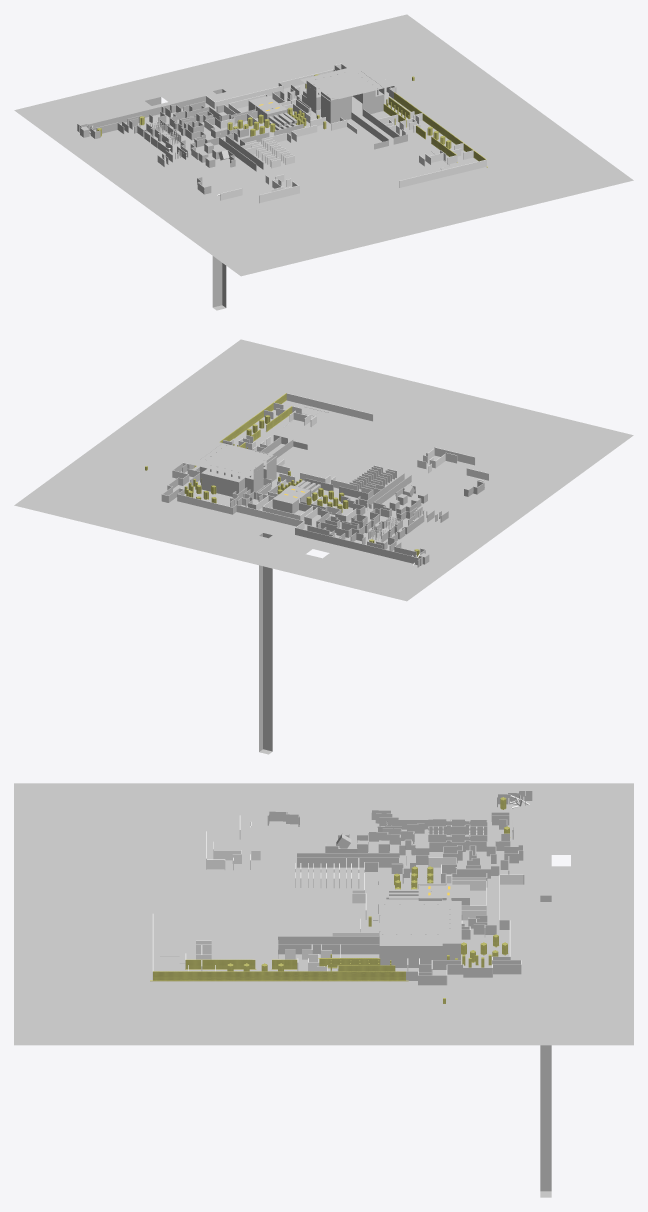
File: poc2.glb
3 views of the same model, one above another, from view 1: azimuth 30°, elevation 25°; view 2: azimuth 150°, elevation 25°; view 3: azimuth 270°, elevation 25° (orthographic). The views are drawn at different scales.
Parts seen in each view (by area): view 1: Plane, Plane.002, Cube.184, wall 3_Material.001_0.001, Cube.242, Cube.089, Cube.078; view 2: Plane, Plane.002, Cube.242, Cube.092, Cube.184; view 3: Plane, Plane.002, wall 3_Material.001_0.001, Cube.091, Cube.186, Cube.110, Cube.111, wall 3_Material.001_0.004, Plane.001.
Boxes of the visible parts, left/top/right/bottom form: Plane: left=14, top=14, right=633, bottom=310; Plane.002: left=300, top=64, right=393, bottom=101; Cube.184: left=399, top=159, right=486, bottom=187; wall 3_Material.001_0.001: left=393, top=92, right=487, bottom=167; Cube.242: left=88, top=97, right=201, bottom=129; Cube.089: left=321, top=92, right=338, bottom=123; Cube.078: left=267, top=109, right=297, bottom=130; Plane: left=14, top=339, right=633, bottom=754; Plane.002: left=184, top=440, right=276, bottom=477; Cube.242: left=299, top=529, right=412, bottom=563; Cube.092: left=201, top=468, right=244, bottom=496; Cube.184: left=286, top=393, right=373, bottom=421; Plane: left=14, top=783, right=633, bottom=1197; Plane.002: left=379, top=901, right=461, bottom=943; wall 3_Material.001_0.001: left=150, top=971, right=408, bottom=981; Cube.091: left=379, top=943, right=442, bottom=967; Cube.186: left=297, top=857, right=399, bottom=867; Cube.110: left=278, top=944, right=379, bottom=954; Cube.111: left=278, top=936, right=379, bottom=944; wall 3_Material.001_0.004: left=185, top=959, right=256, bottom=969; Plane.001: left=419, top=884, right=469, bottom=897.
Size of what is drawn, in the model's own units: 230 by 136 by 230.
Materials: 356 (67 with a texture image).
